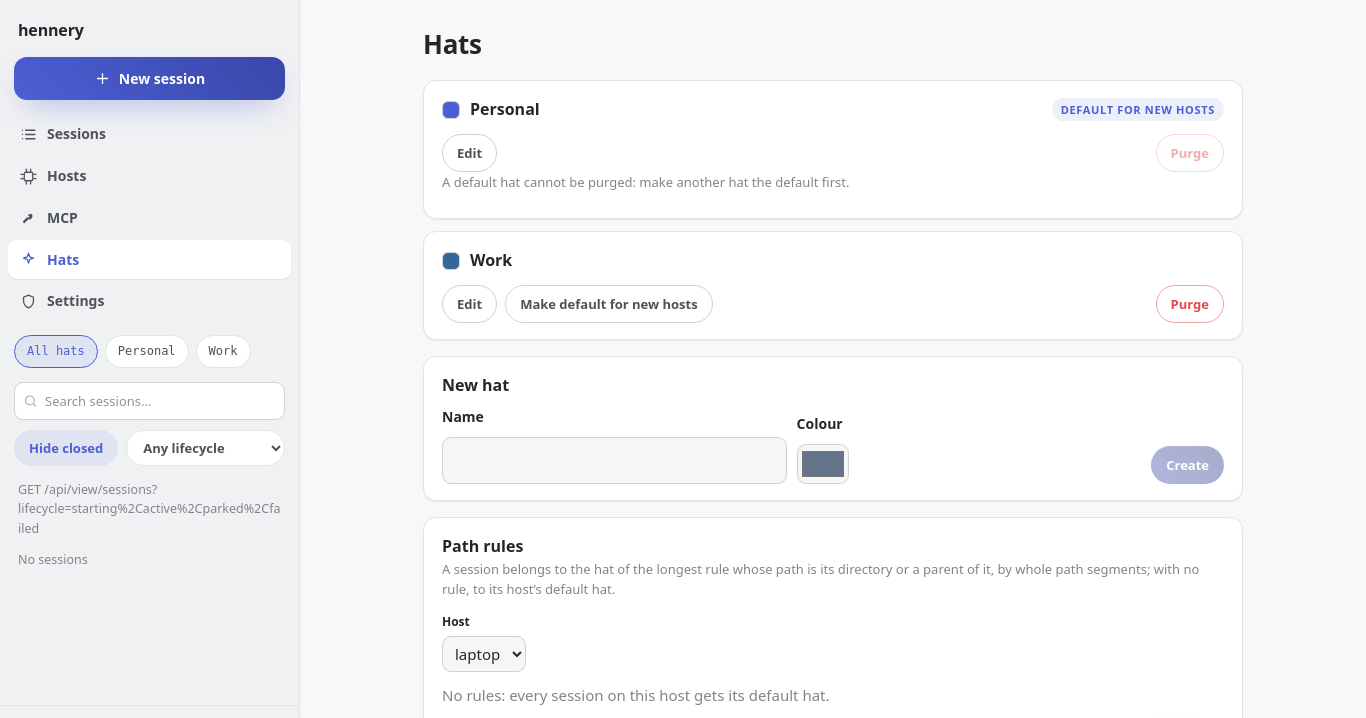
Test: the hats › creates a hat with no step-up
Step 1. Type "Clients" into the field labelled "Name" → x=614, y=460, box left=442, top=437, right=787, bottom=484
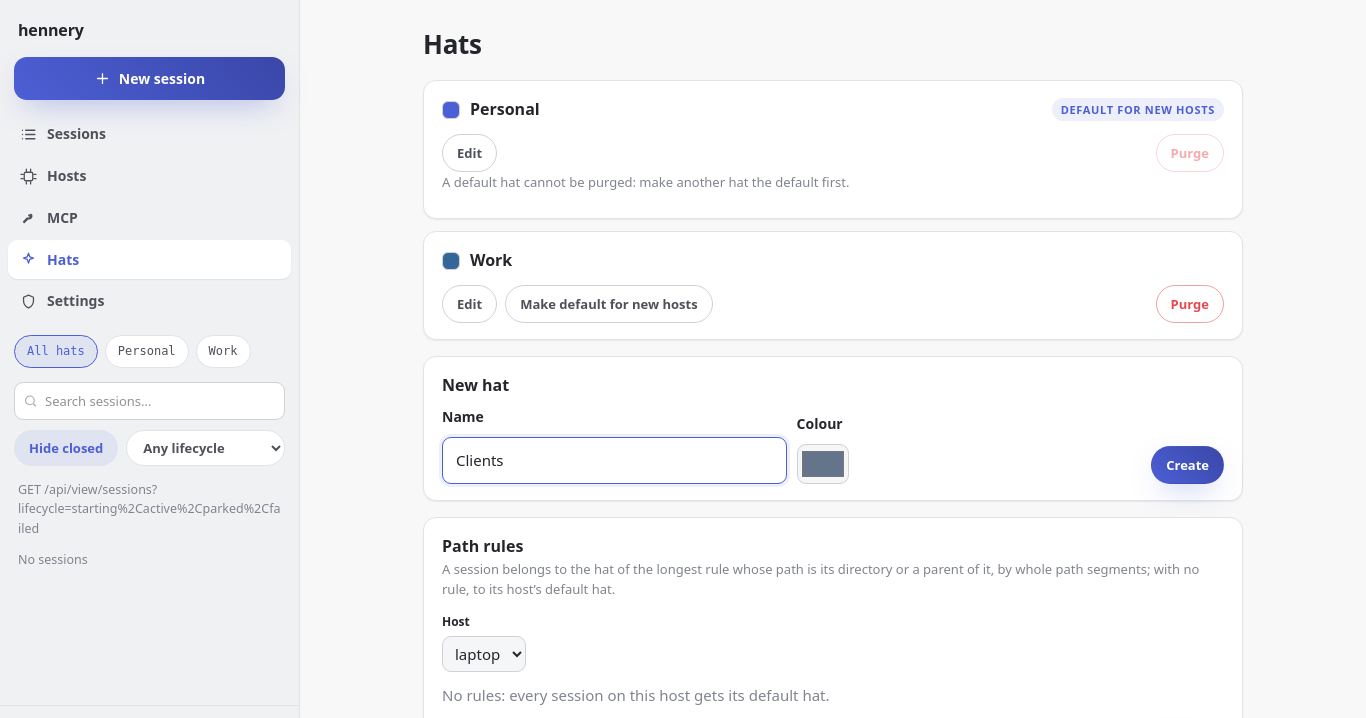
Step 2. Click the button "Create" → x=1188, y=465, box left=1151, top=446, right=1224, bottom=484
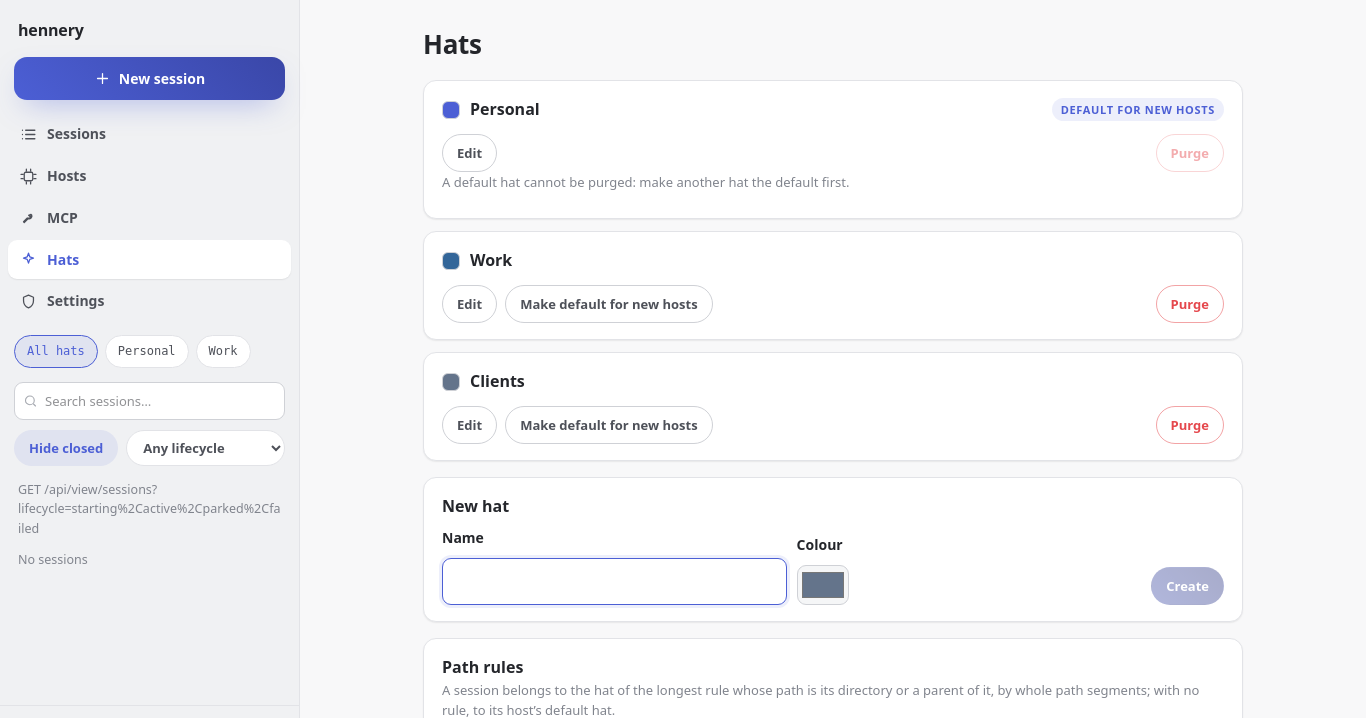
Check: the list item "Clients" is shown, box left=423, top=352, right=1243, bottom=461
